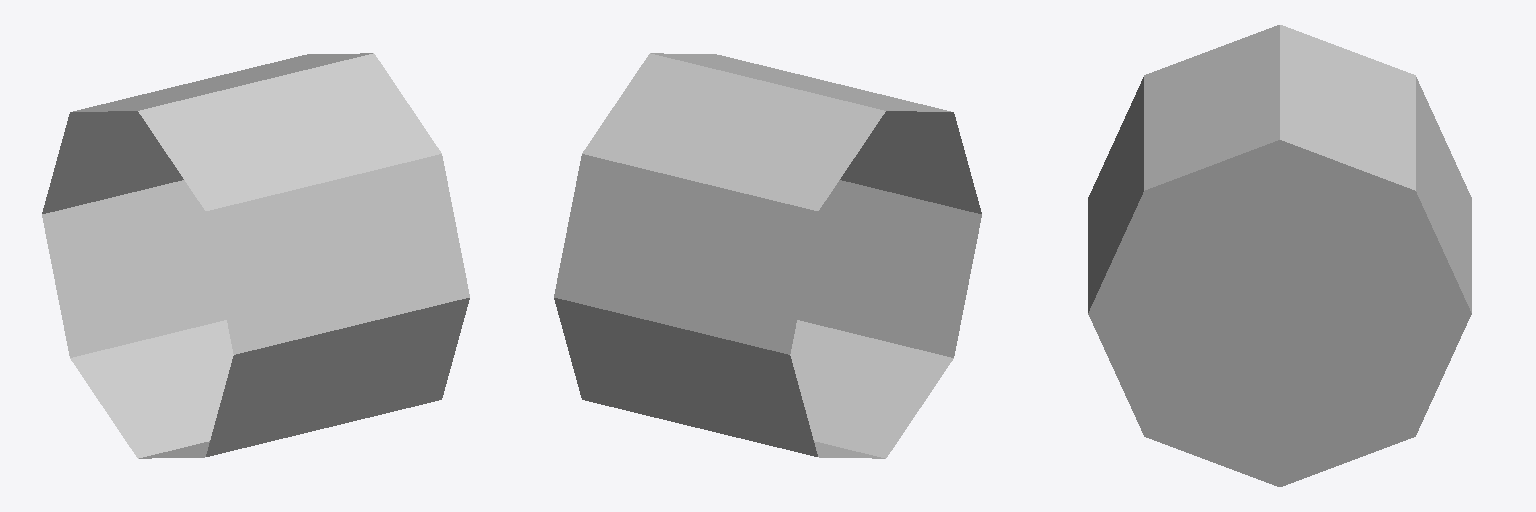
Rendered from WheelRearL.obj.
3 views of the same model, side by side, from view 1: azimuth 30°, elevation 25°; view 2: azimuth 150°, elevation 25°; view 3: azimuth 270°, elevation 25° (orthographic).
Parts seen in each view (by area): view 1: WheelRearL; view 2: WheelRearL; view 3: WheelRearL.
Part boxes in pixels (left/top/right/bottom): WheelRearL: left=42, top=53, right=469, bottom=458; WheelRearL: left=554, top=53, right=981, bottom=458; WheelRearL: left=1088, top=25, right=1471, bottom=486.
Bounding box in the file's own units: 0.8389 × 1.18 × 1.18.